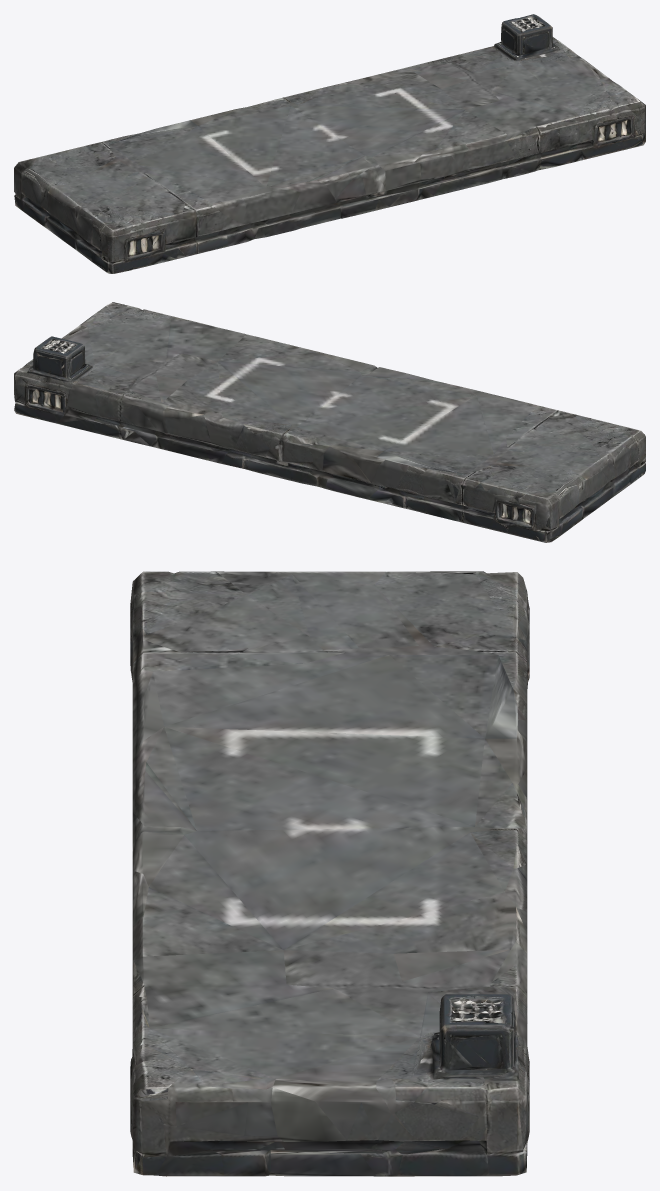
Rendered from landing-tower-concrete.glb.
3 renders of one model, top to bottom at view 1: azimuth 30°, elevation 25°; view 2: azimuth 150°, elevation 25°; view 3: azimuth 270°, elevation 25°, orthographic. The views are drawn at different scales.
Bounding box in the file's own units: 1.9 × 0.2245 × 0.6116.
Materials: 1 (1 with a texture image).
